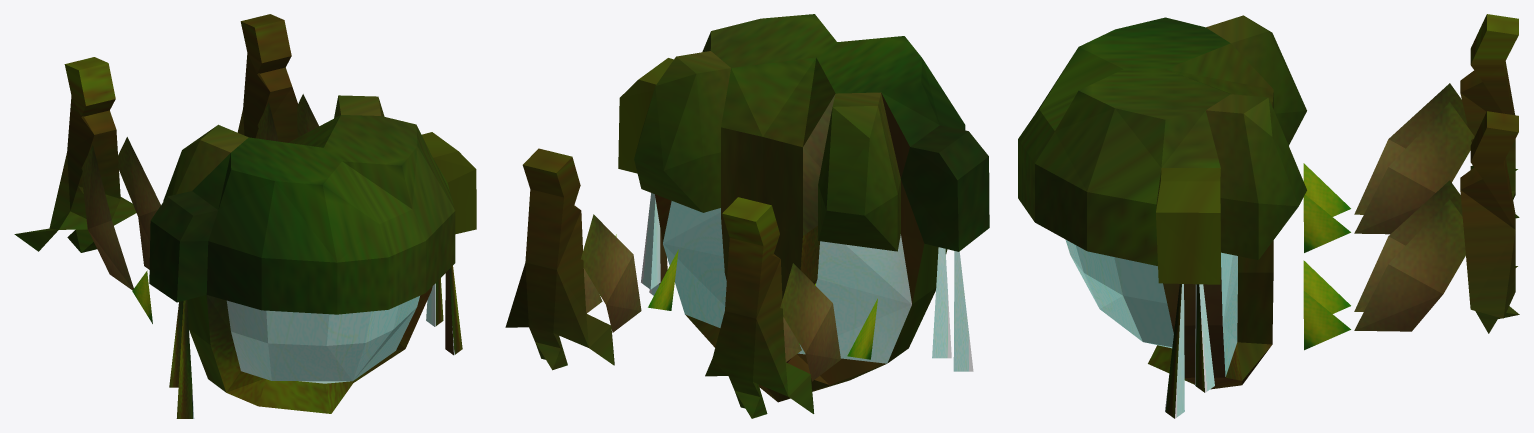
File: mech688low_wtf.obj
3 views of the same model, side by side, from view 1: azimuth 30°, elevation 25°; view 2: azimuth 150°, elevation 25°; view 3: azimuth 270°, elevation 25° (orthographic). The views are drawn at different scales.
Visible parts, largest first — view 1: group1; view 2: group1; view 3: group1.
Part boxes in pixels (box(x1,y1,x2,y2)): group1: box(14, 14, 476, 418); group1: box(505, 14, 989, 418); group1: box(1018, 14, 1519, 418).
Bounding box in the file's own units: 522 × 466 × 660.
